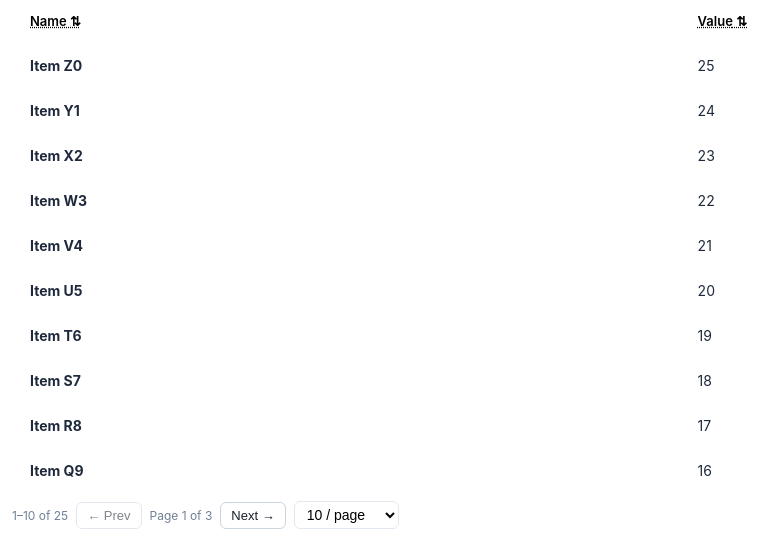
DataTable client pagination (BL-2) › Next and Prev move between pages
Click the button "Next →" at (253, 515), box [220,502,286,528]
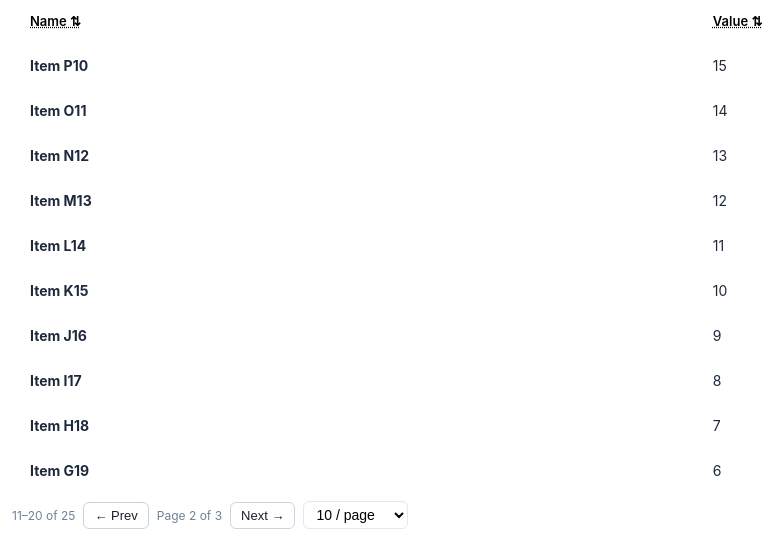
expect the text "11–20 of 25" is shown: met, box [12,508,76,522]
expect the text "Page 2 of 3" is shown: met, box [157,508,222,522]
Click the button "← Prev" at (116, 515), box [84,502,149,528]
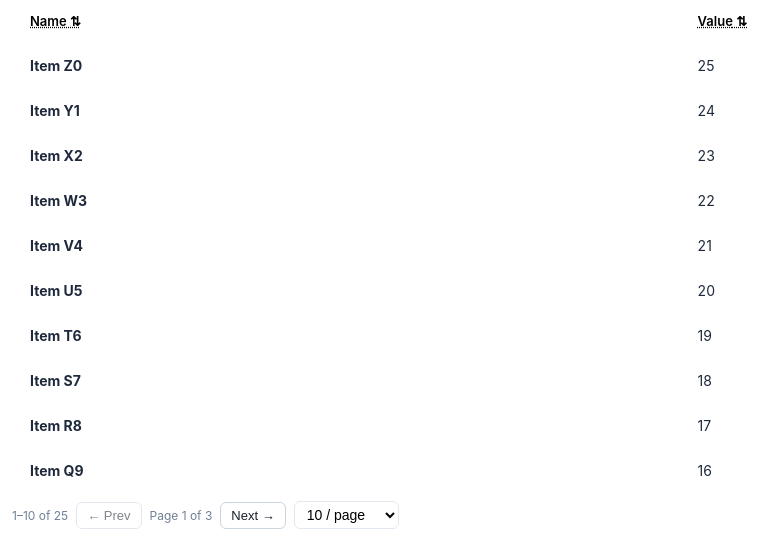
expect the text "Page 1 of 3" is shown: met, box [150,508,212,522]
